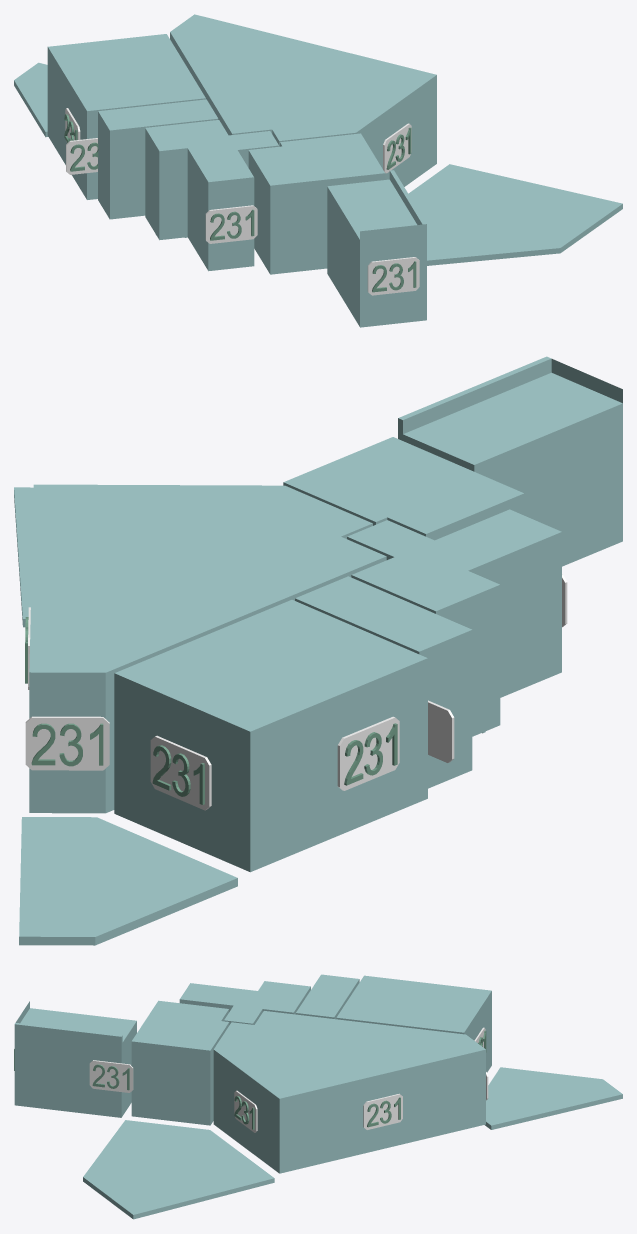
3 renders of one model, top to bottom at view 1: azimuth 30°, elevation 25°; view 2: azimuth 150°, elevation 25°; view 3: azimuth 270°, elevation 25°, orthographic. The views are drawn at different scales.
Visible parts, largest first — view 1: g_0, g_7, g_3, g_4, g_1, g_5, g_2, g_6, g_11, g_15, g_43, g_23; view 2: g_1, g_0, g_5, g_3, g_6, g_4, g_2, g_31, g_35, g_19, g_7, g_43; view 3: g_0, g_7, g_5, g_4, g_1, g_6, g_3, g_2, g_27, g_39, g_23.
Part boxes in pixels (<box>): g_0: <box>170,14,436,186</box>; g_7: <box>408,164,622,265</box>; g_3: <box>145,120,278,271</box>; g_4: <box>248,133,385,274</box>; g_1: <box>47,34,205,199</box>; g_5: <box>327,170,426,327</box>; g_2: <box>98,99,218,219</box>; g_6: <box>14,62,48,137</box>; g_11: <box>367,257,419,295</box>; g_15: <box>205,205,257,243</box>; g_43: <box>66,138,97,174</box>; g_23: <box>383,123,411,173</box>; g_1: <box>114,600,427,872</box>; g_0: <box>29,484,386,813</box>; g_5: <box>398,356,622,566</box>; g_3: <box>347,509,561,736</box>; g_6: <box>19,817,237,945</box>; g_4: <box>283,437,524,540</box>; g_2: <box>295,576,472,788</box>; g_31: <box>25,716,109,770</box>; g_35: <box>337,716,399,790</box>; g_19: <box>150,735,211,810</box>; g_7: <box>14,487,33,627</box>; g_43: <box>428,700,454,762</box>; g_0: <box>213,1011,485,1173</box>; g_7: <box>83,1120,274,1219</box>; g_5: <box>14,1001,136,1117</box>; g_4: <box>131,1000,229,1125</box>; g_1: <box>336,975,491,1072</box>; g_6: <box>485,1067,622,1129</box>; g_3: <box>179,981,310,1024</box>; g_2: <box>296,974,359,1019</box>; g_27: <box>89,1060,133,1092</box>; g_39: <box>363,1093,402,1129</box>; g_23: <box>234,1090,257,1132</box>.
Size of the model in its own units: 12.26 by 2.85 by 18.37.
